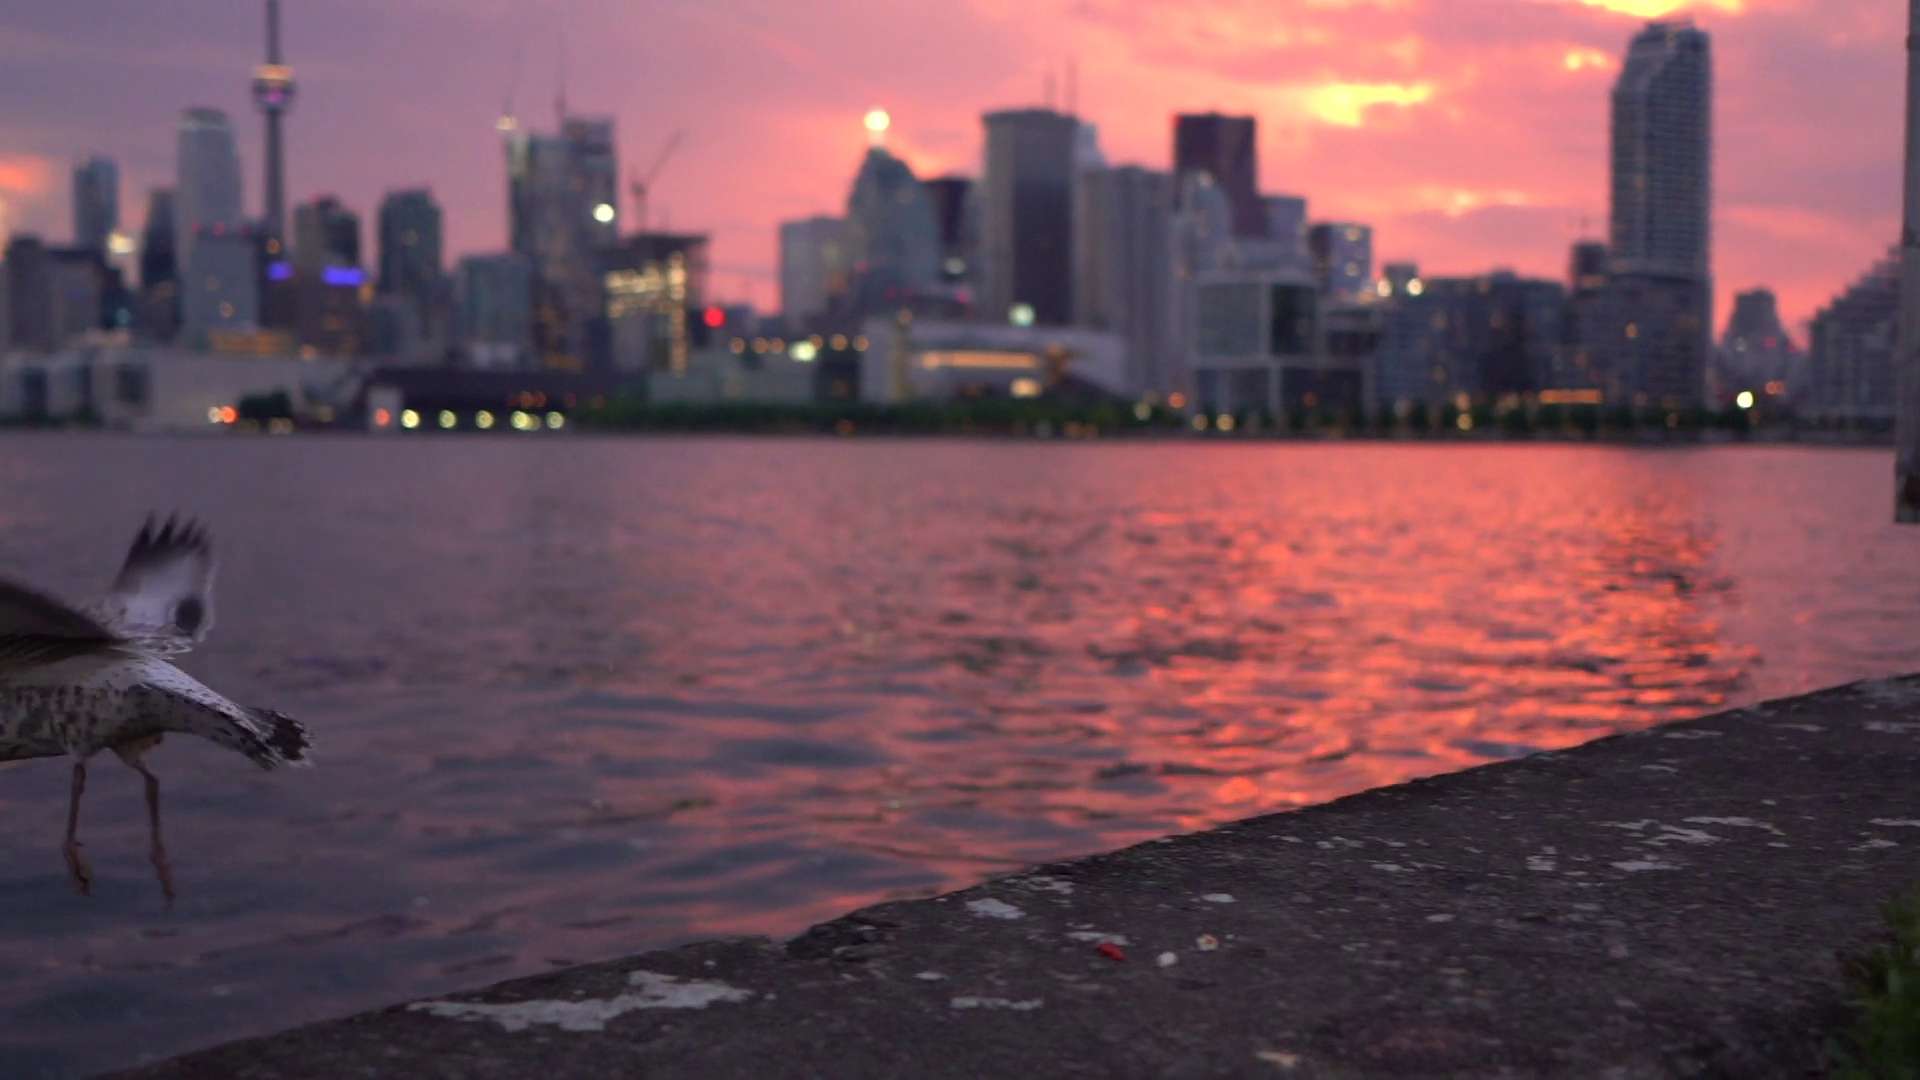bird: (1, 508, 313, 899)
